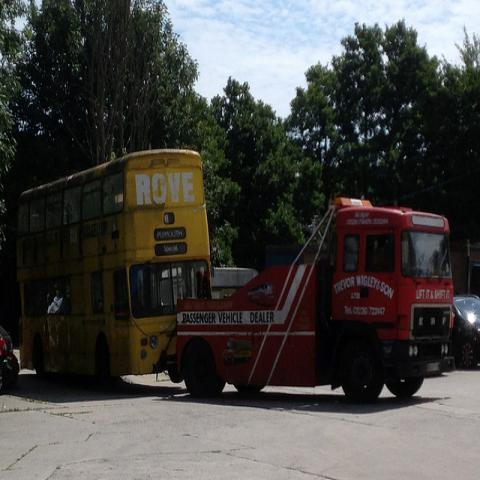bus: (17, 121, 217, 388)
car: (453, 294, 479, 370), (0, 324, 15, 376)
truck: (166, 194, 450, 404)
